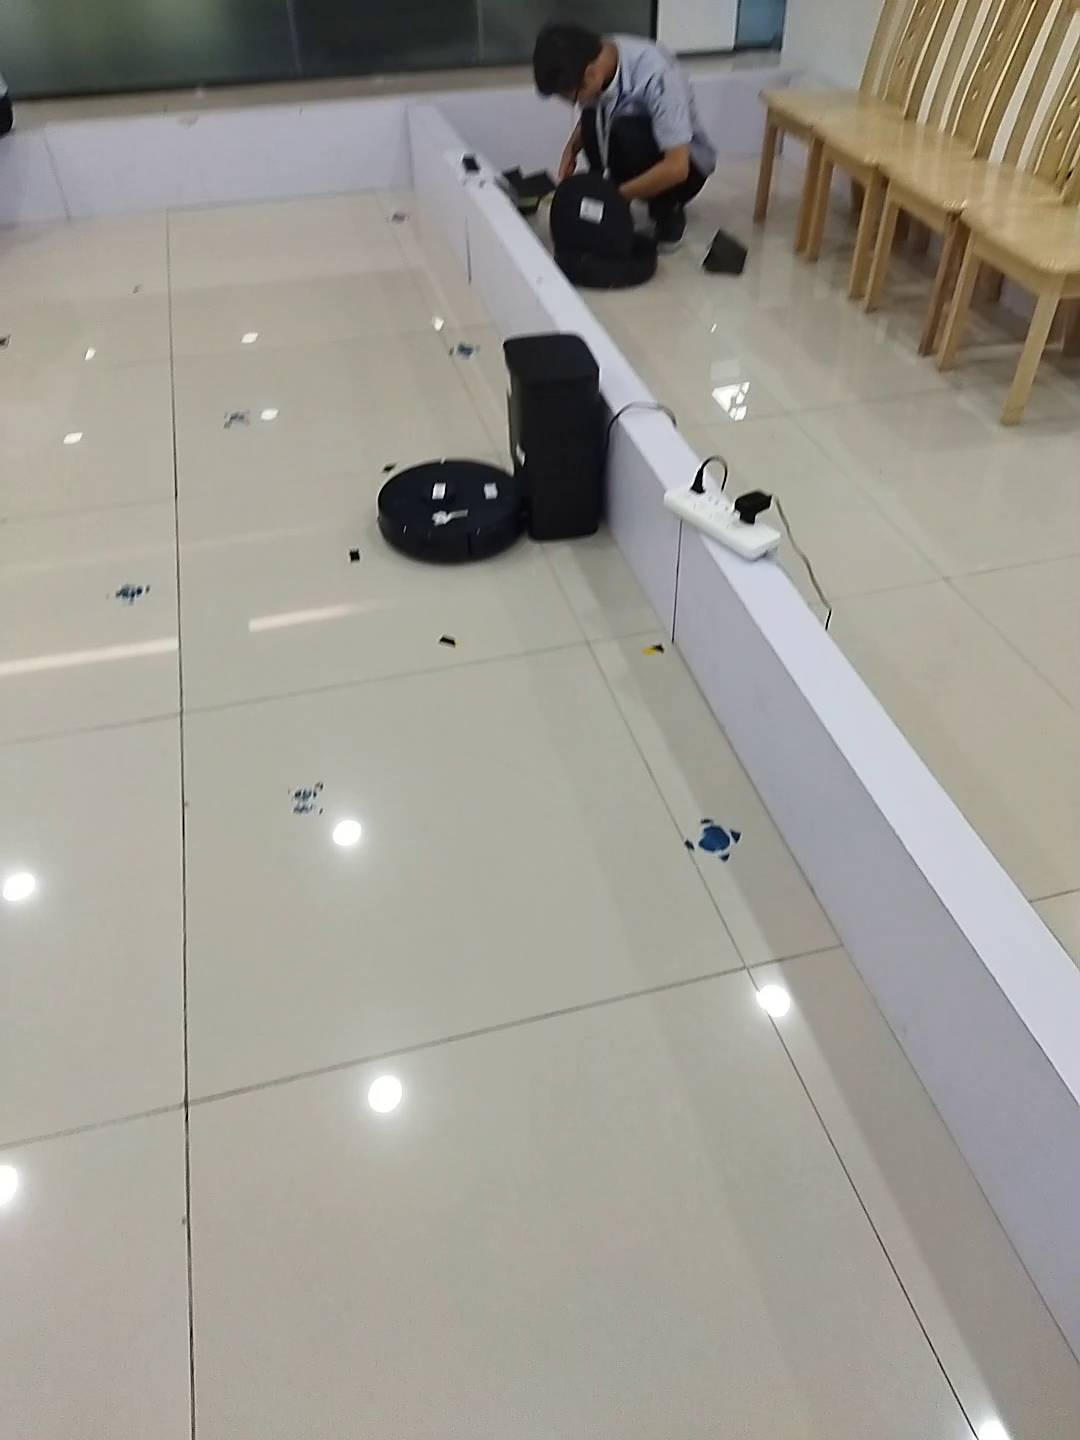dust collecting barrel: (498, 331, 605, 544)
recharge seat: (701, 228, 751, 276)
